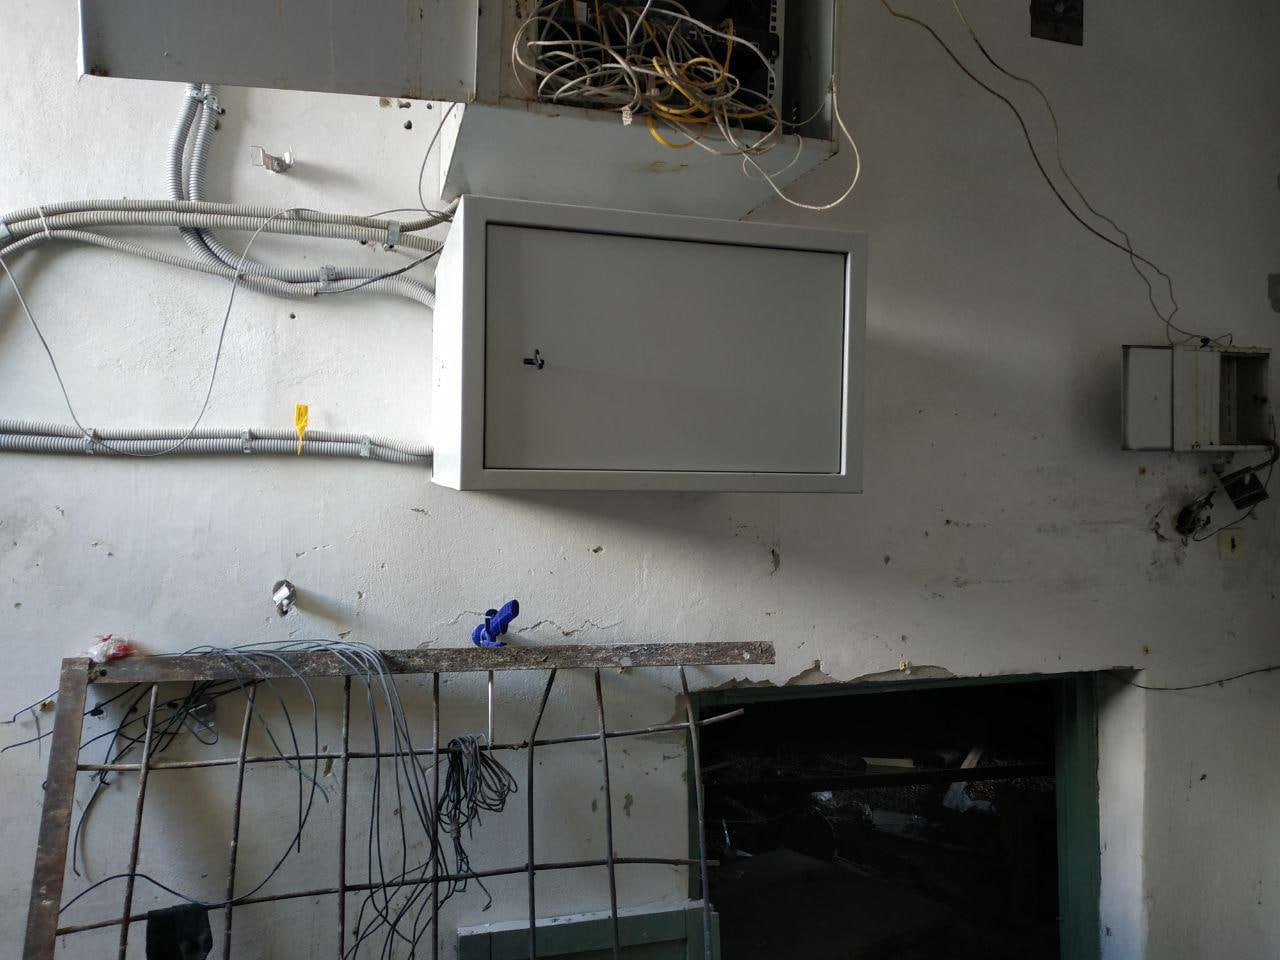shta-7m: (419, 192, 874, 505)
